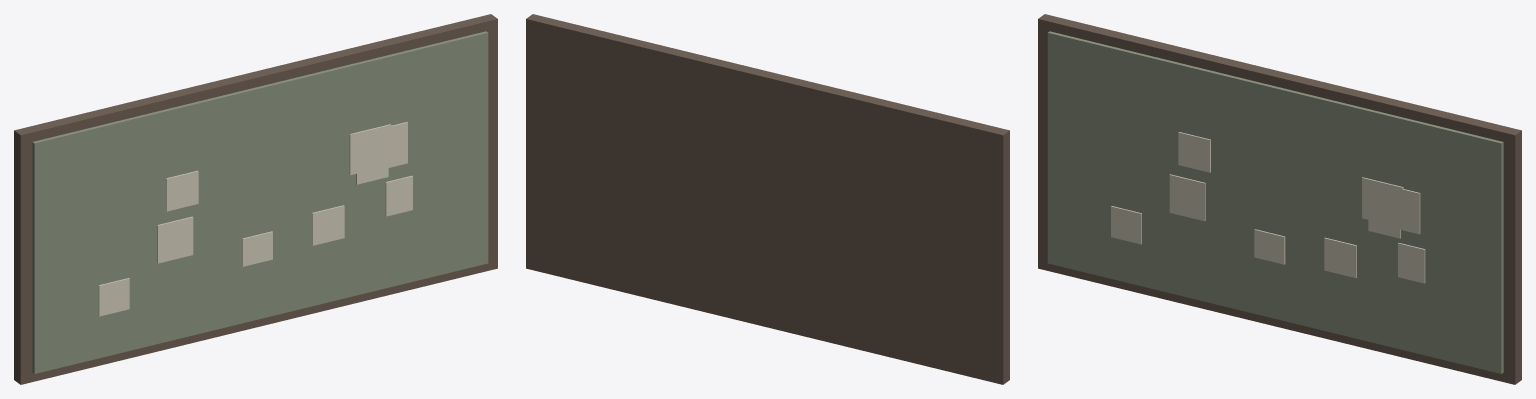
The picture shows the model from 3 angles, left to right: view 1: azimuth 30°, elevation 25°; view 2: azimuth 150°, elevation 25°; view 3: azimuth 330°, elevation 25°; orthographic projection.
Visible parts, largest first — view 1: CR-009_OliveCork_001, CR-009_DarkWoodFrame_000, CR-009_PinupRecipeCard_010, CR-009_PinupRecipeCard_006, CR-009_PinupRecipeCard_009, CR-009_PinupRecipeCard_005, CR-009_PinupRecipeCard_002, CR-009_PinupRecipeCard_008, CR-009_PinupRecipeCard_007, CR-009_PinupRecipeCard_004, CR-009_PinupRecipeCard_003; view 2: CR-009_DarkWoodFrame_000; view 3: CR-009_OliveCork_001, CR-009_DarkWoodFrame_000, CR-009_PinupRecipeCard_010, CR-009_PinupRecipeCard_006, CR-009_PinupRecipeCard_003, CR-009_PinupRecipeCard_009, CR-009_PinupRecipeCard_005, CR-009_PinupRecipeCard_002, CR-009_PinupRecipeCard_008, CR-009_PinupRecipeCard_007, CR-009_PinupRecipeCard_004.
Boxes of the visible parts, x1=… form: CR-009_OliveCork_001: x1=32, y1=31, x2=488, y2=373; CR-009_DarkWoodFrame_000: x1=14, y1=14, x2=497, y2=384; CR-009_PinupRecipeCard_010: x1=349, y1=124, x2=391, y2=175; CR-009_PinupRecipeCard_006: x1=157, y1=216, x2=193, y2=263; CR-009_PinupRecipeCard_009: x1=166, y1=170, x2=198, y2=211; CR-009_PinupRecipeCard_005: x1=312, y1=205, x2=344, y2=245; CR-009_PinupRecipeCard_002: x1=98, y1=278, x2=129, y2=316; CR-009_PinupRecipeCard_008: x1=385, y1=175, x2=412, y2=216; CR-009_PinupRecipeCard_007: x1=242, y1=231, x2=272, y2=266; CR-009_PinupRecipeCard_004: x1=375, y1=122, x2=407, y2=170; CR-009_PinupRecipeCard_003: x1=356, y1=139, x2=388, y2=184; CR-009_DarkWoodFrame_000: x1=526, y1=14, x2=1009, y2=384; CR-009_OliveCork_001: x1=1047, y1=31, x2=1503, y2=373; CR-009_DarkWoodFrame_000: x1=1038, y1=14, x2=1521, y2=384; CR-009_PinupRecipeCard_010: x1=1362, y1=177, x2=1403, y2=227; CR-009_PinupRecipeCard_006: x1=1169, y1=174, x2=1205, y2=221; CR-009_PinupRecipeCard_003: x1=1368, y1=187, x2=1400, y2=238; CR-009_PinupRecipeCard_009: x1=1178, y1=132, x2=1210, y2=172; CR-009_PinupRecipeCard_005: x1=1324, y1=237, x2=1356, y2=277; CR-009_PinupRecipeCard_002: x1=1111, y1=206, x2=1141, y2=244; CR-009_PinupRecipeCard_008: x1=1398, y1=243, x2=1425, y2=283; CR-009_PinupRecipeCard_007: x1=1254, y1=229, x2=1285, y2=264; CR-009_PinupRecipeCard_004: x1=1383, y1=187, x2=1420, y2=234.
Bounding box in the file's own units: 1.84 × 0.92 × 0.064.
